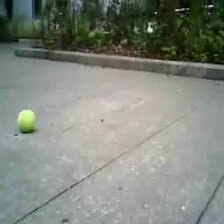tennis: (17, 109, 36, 133)
